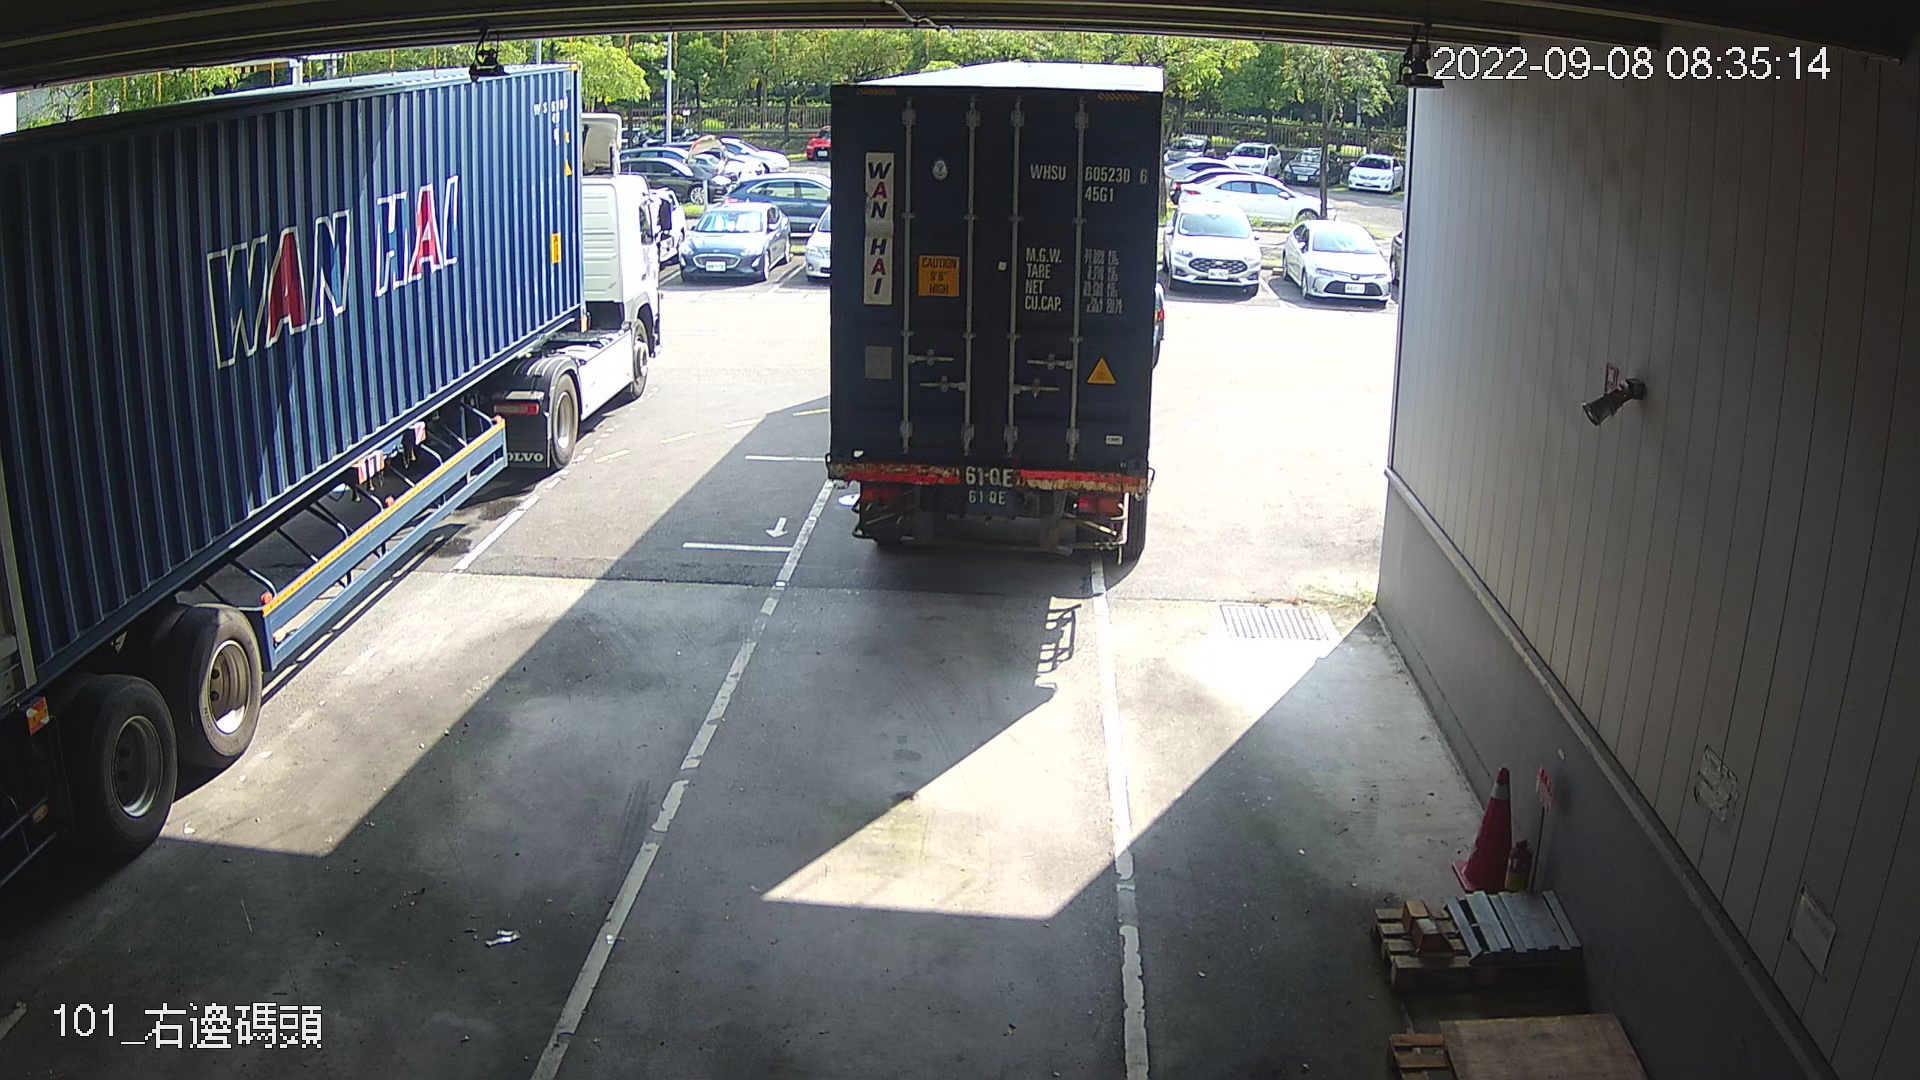container: (1023, 152, 1156, 210)
